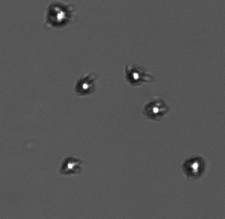Living Cell: (47, 4, 69, 26), (59, 157, 81, 173), (146, 101, 165, 118), (76, 76, 93, 93), (186, 157, 202, 175), (128, 68, 143, 84)
